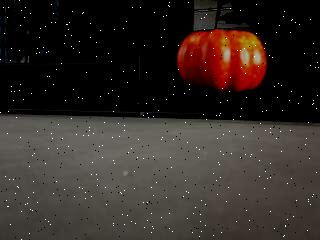Pumpkin: (175, 28, 267, 90)
